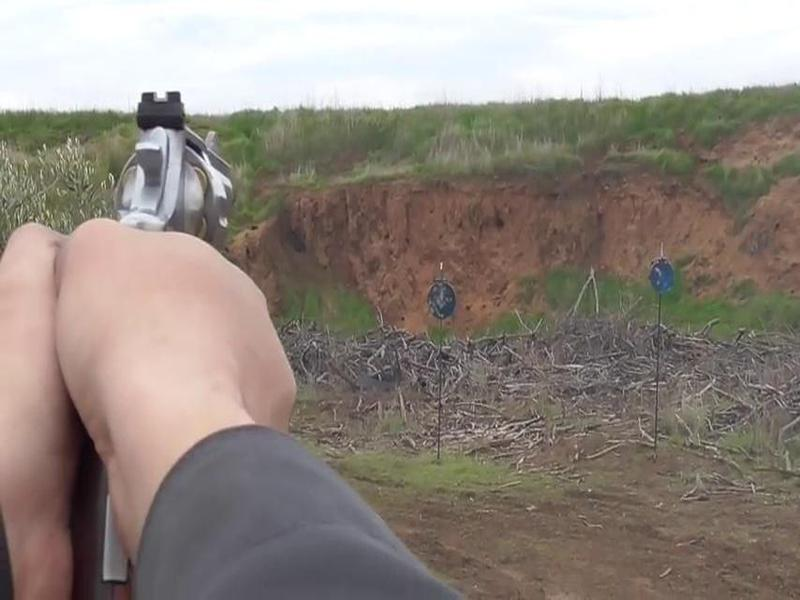Revolver: (108, 79, 241, 281)
